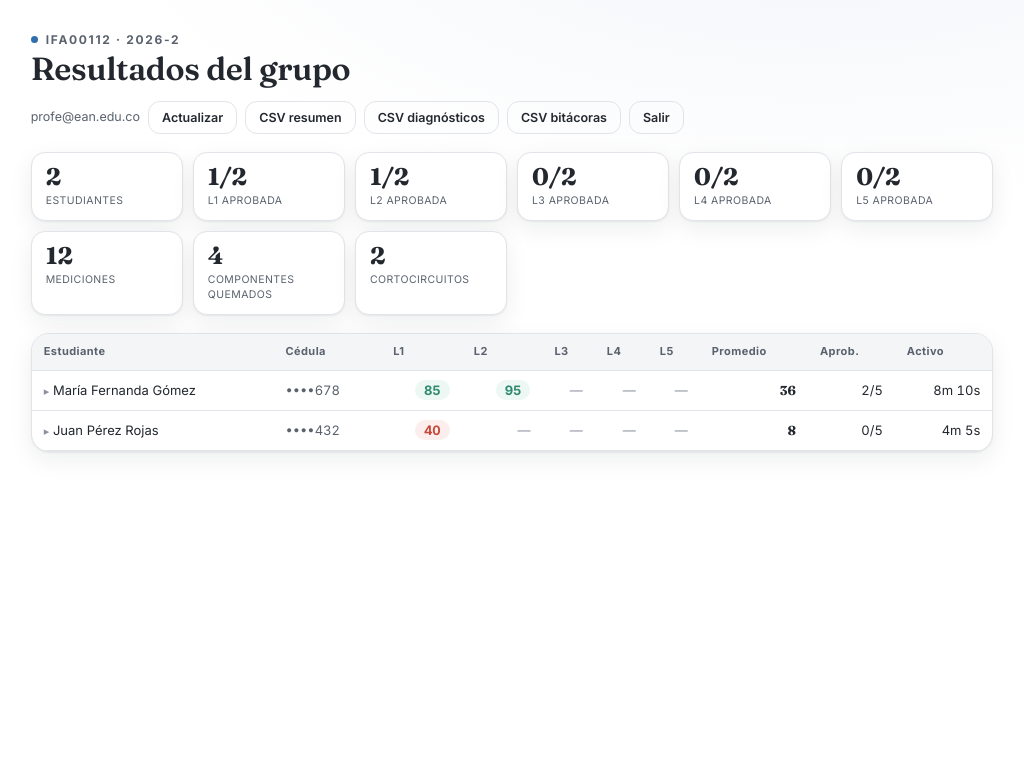
Test: el tablero con el grupo cargado › volver a pulsar la pliega
Click the row with class "fila-estudiante" that starts with "María Fernanda Gómez" at point(512, 391), box [32,371,992,411]
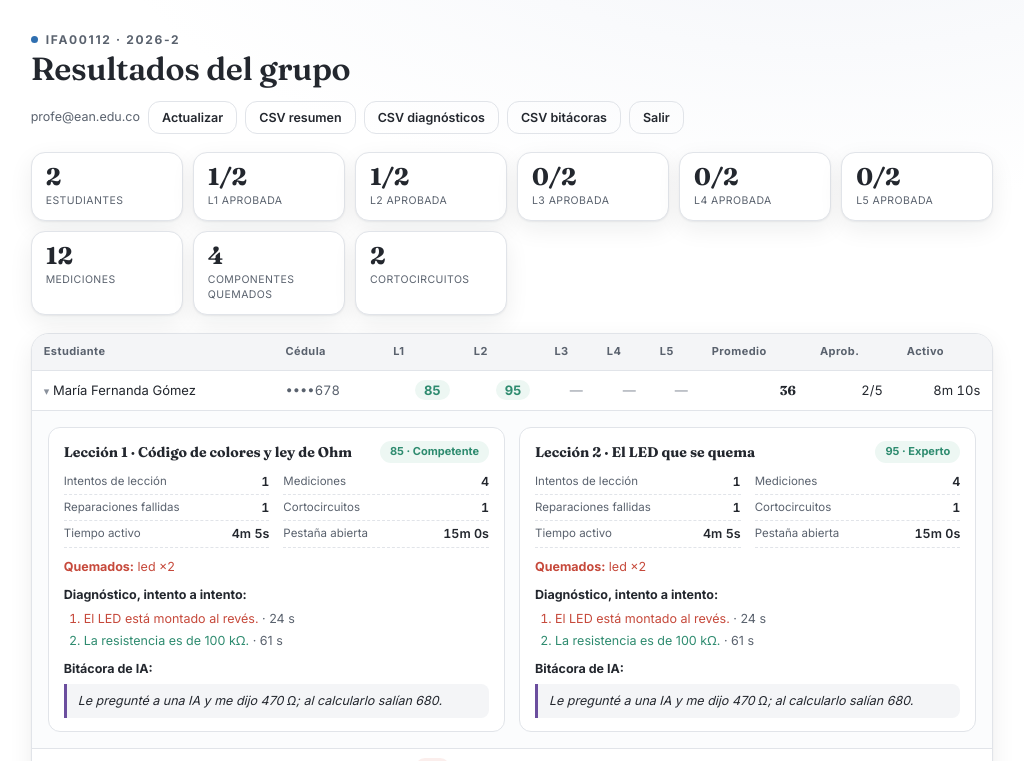
Check: the number of rows with class "fila-detalle" is 1, box [32,411,992,749]
Click the row with class "fila-estudiante" that starts with "María Fernanda Gómez" at point(512, 391), box [32,371,992,411]
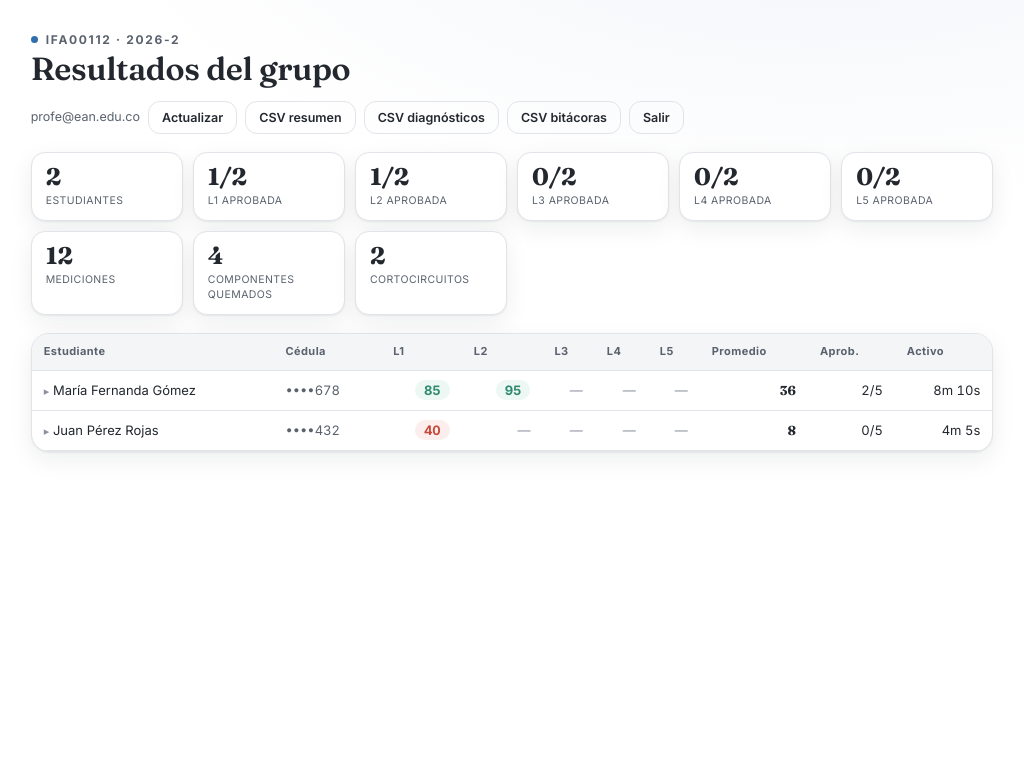
Check: no rows with class "fila-detalle" are shown
